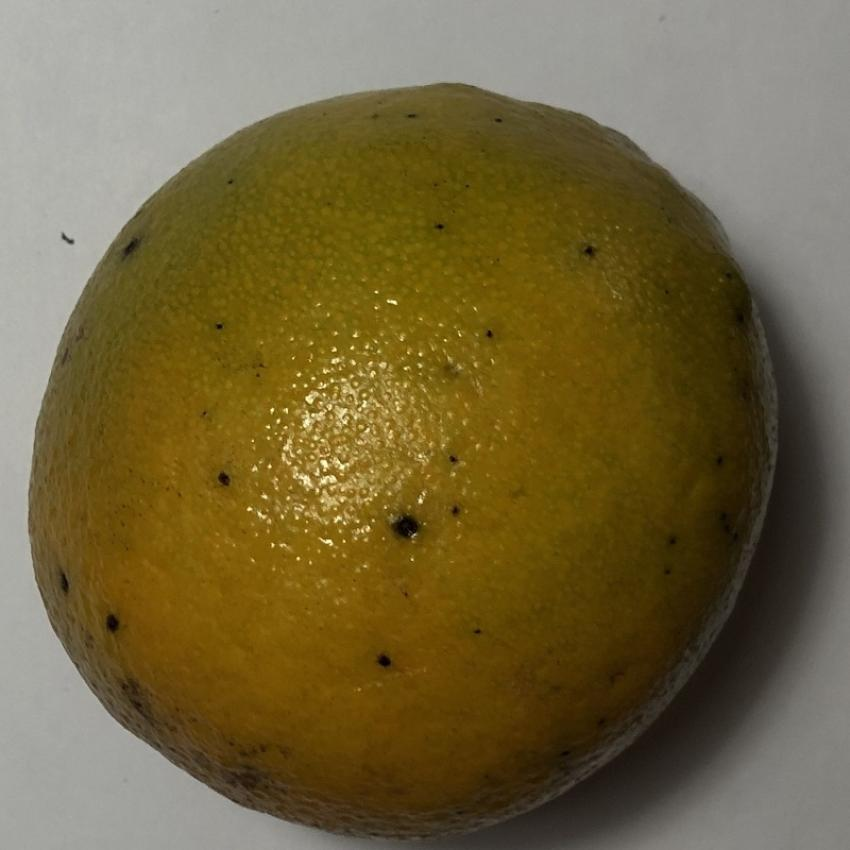Mal estado: (0, 62, 797, 843)
